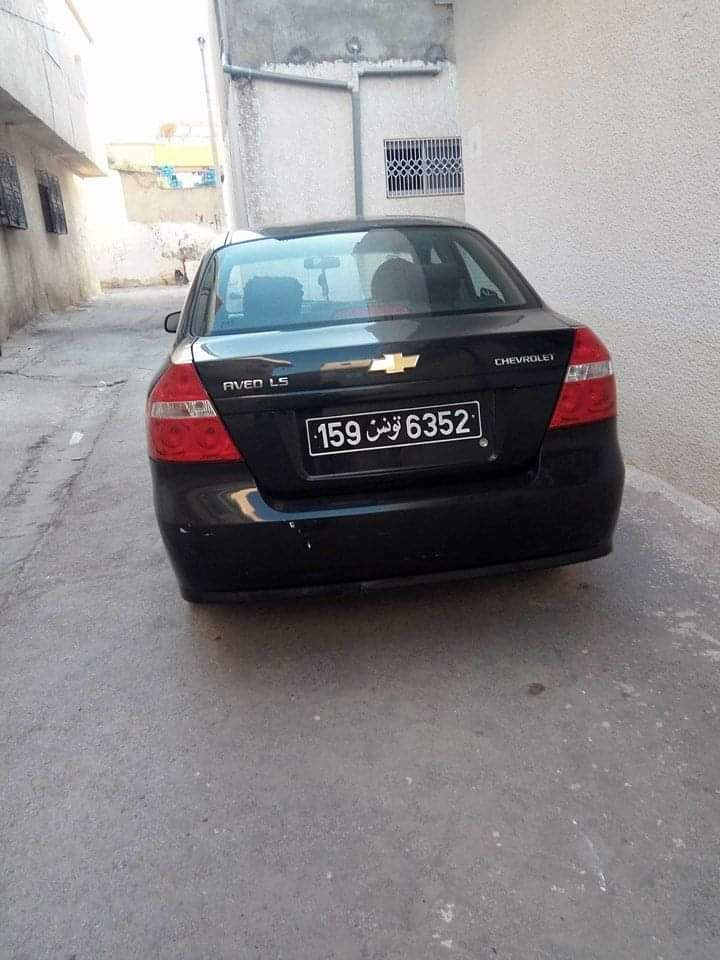LP: (306, 401, 482, 455)
